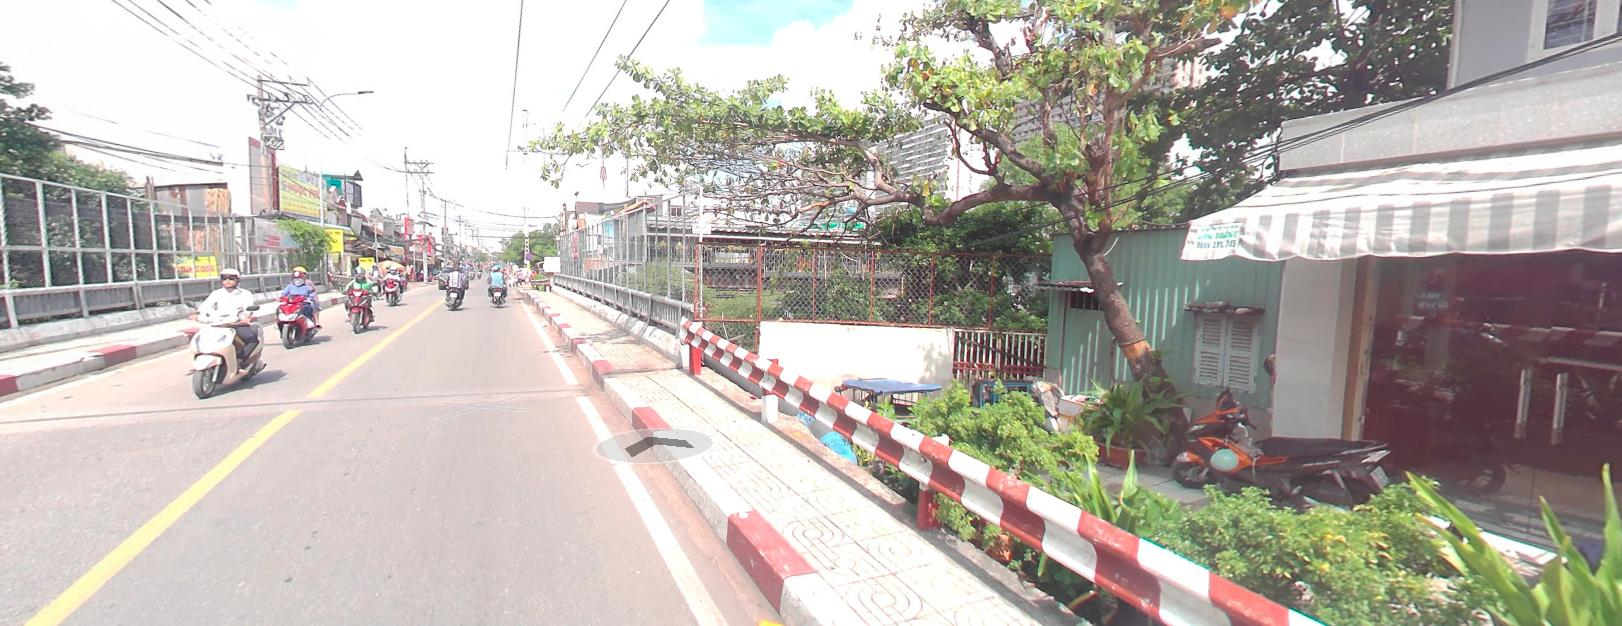Cam dung va do: (525, 251, 532, 257)
